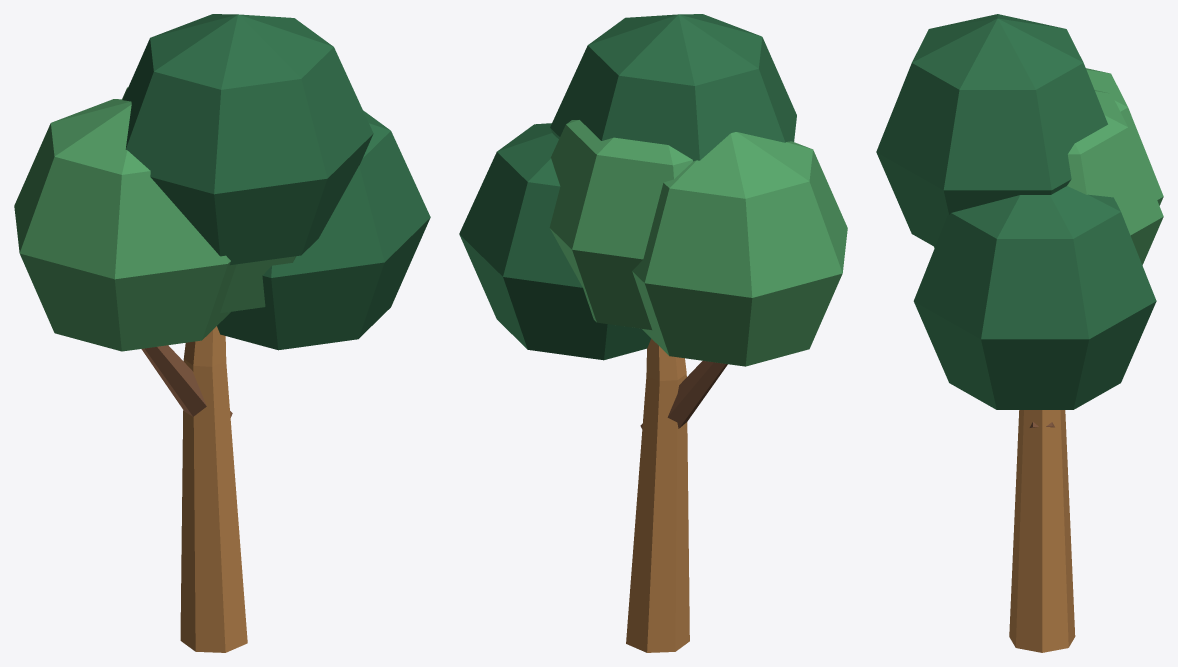
Rendered from tree.glb.
3 renders of one model, left to right at view 1: azimuth 30°, elevation 25°; view 2: azimuth 150°, elevation 25°; view 3: azimuth 270°, elevation 25°, orthographic. The views are drawn at different scales.
Parts seen in each view (by area): view 1: RF_Tree_Asset_Asset; view 2: RF_Tree_Asset_Asset; view 3: RF_Tree_Asset_Asset.
Part boxes in pixels (bbox=[...]): RF_Tree_Asset_Asset: bbox=[14, 14, 430, 652]; RF_Tree_Asset_Asset: bbox=[459, 14, 847, 652]; RF_Tree_Asset_Asset: bbox=[876, 14, 1163, 652].
Bounding box in the file's own units: 2.39 × 3.86 × 1.61.
